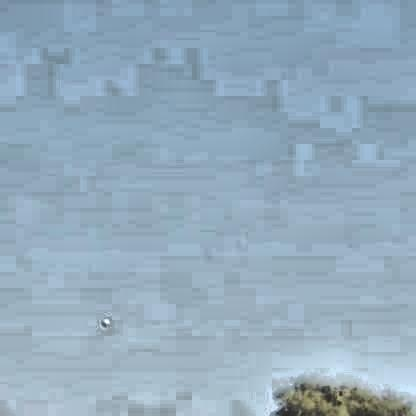golfball: (98, 315, 107, 323)
